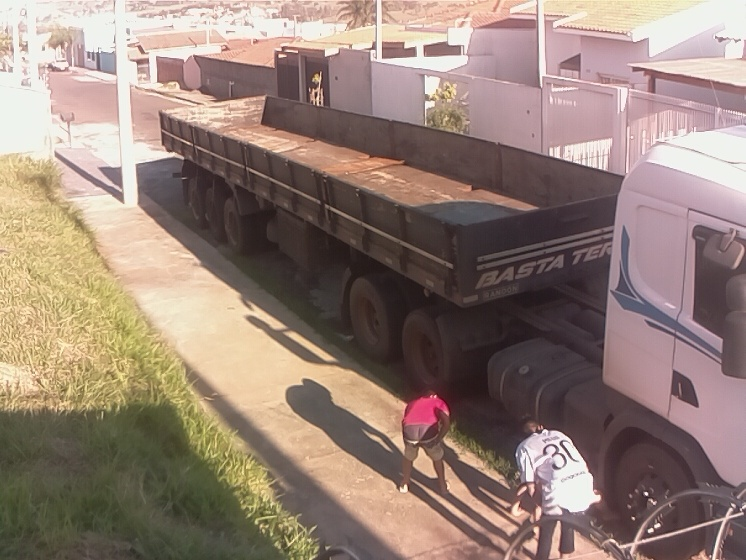person: (512, 410, 599, 560), (396, 386, 454, 500)
